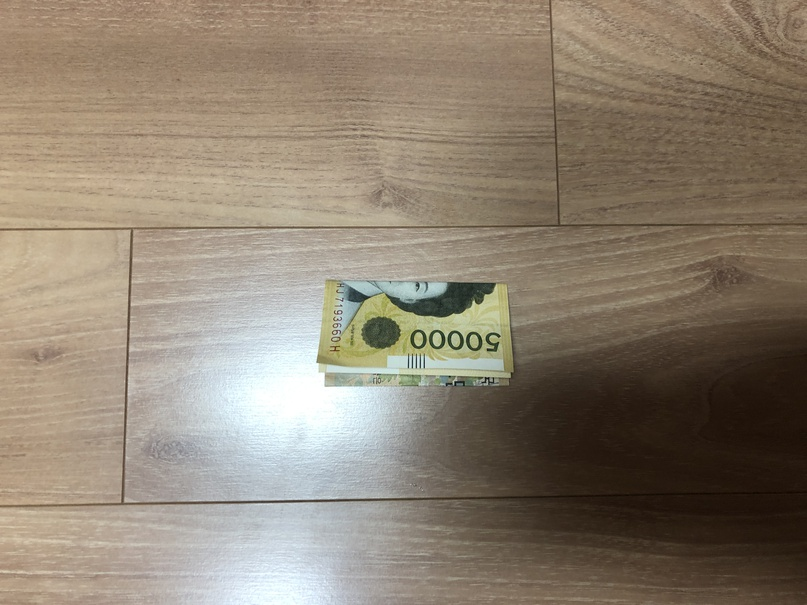50000won: (316, 280, 515, 387)
